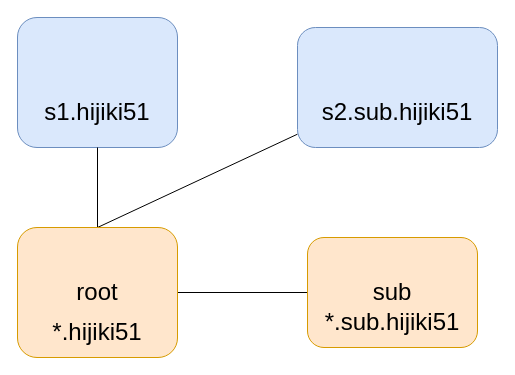
Some shapes in this 515 by 375 pixel diagram are drawn without their labels. The box of each missing label's shape, as (x1, y1, x2, y2) in pixels:
server1: (16, 16, 178, 148)
server2: (296, 26, 498, 148)
